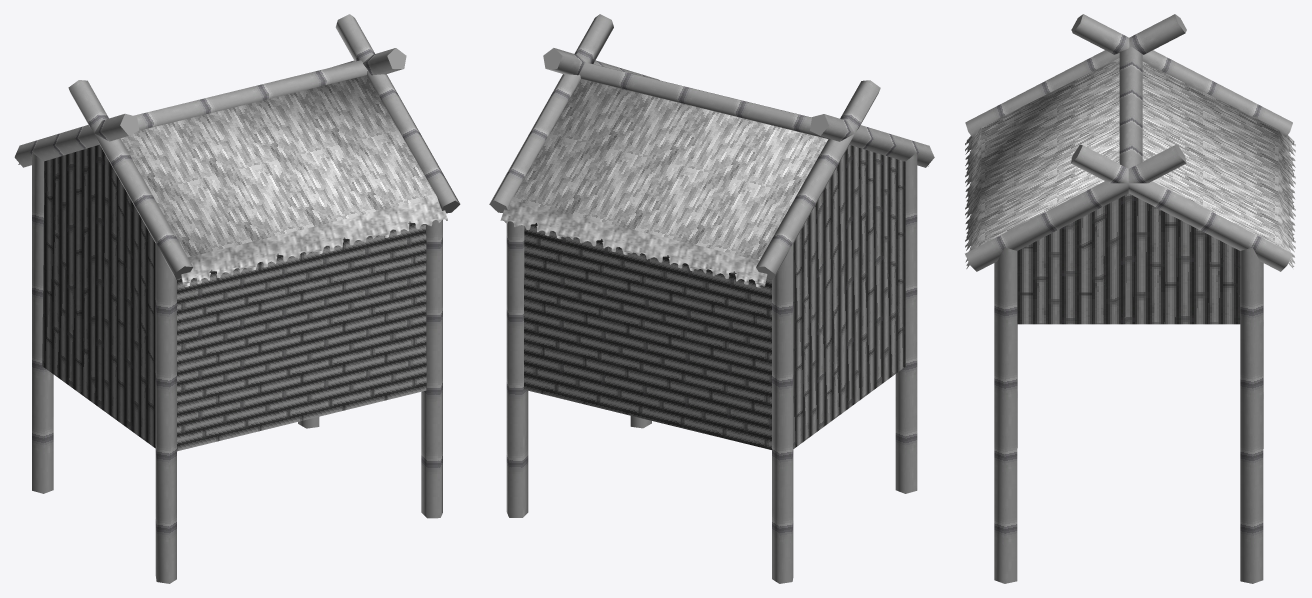
The model's file is bamboohut03.obj.
The picture shows the model from 3 angles, left to right: view 1: azimuth 30°, elevation 25°; view 2: azimuth 150°, elevation 25°; view 3: azimuth 270°, elevation 25°; orthographic projection.
Parts seen in each view (by area): view 1: Duplicate02, Duplicate03, Duplicate01, Duplicate04, Duplicate05, Cylinder01, Duplicate06; view 2: Box01, Duplicate02, Duplicate01, Duplicate05, Duplicate04, Cylinder01, Duplicate06; view 3: Duplicate02, Duplicate05, Box01, Duplicate01, Duplicate04, Duplicate06.
Boxes of the visible parts, box(x1,y1,x2,y2) form: Duplicate02: box(14, 75, 436, 448); Duplicate03: box(177, 221, 426, 451); Duplicate01: box(42, 144, 447, 407); Duplicate04: box(68, 80, 193, 583); Duplicate05: box(298, 14, 460, 518); Cylinder01: box(32, 151, 53, 493); Duplicate06: box(133, 60, 367, 130); Box01: box(500, 79, 828, 449); Duplicate02: box(756, 80, 905, 406); Duplicate01: box(793, 145, 928, 448); Duplicate05: box(489, 14, 659, 517); Duplicate04: box(810, 114, 934, 493); Cylinder01: box(772, 242, 793, 583); Duplicate06: box(579, 62, 828, 138); Duplicate02: box(981, 14, 1292, 324); Duplicate05: box(965, 144, 1292, 583); Box01: box(1142, 61, 1295, 267); Duplicate01: box(965, 127, 1240, 324); Duplicate04: box(965, 14, 1186, 447); Duplicate06: box(1119, 47, 1142, 168).
Bounding box in the file's own units: 57.44 × 83.9 × 58.45.
